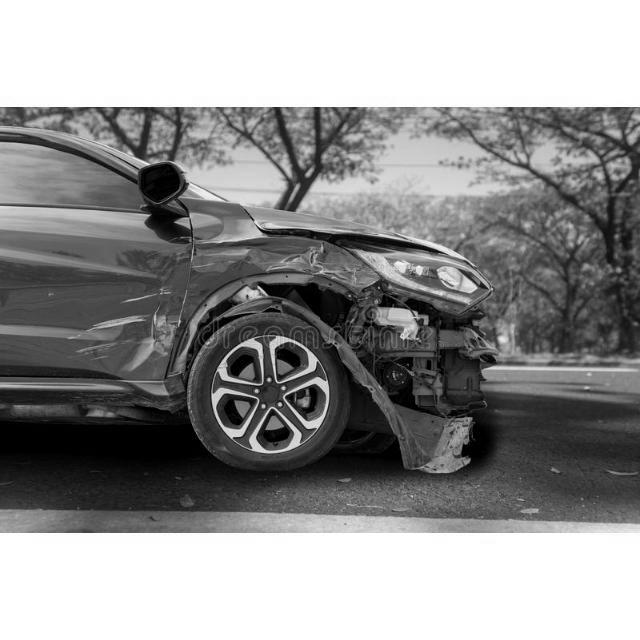doorouter-dent: (1, 205, 178, 382)
fender-dent: (189, 215, 367, 319)
front-bumper-dent: (371, 311, 514, 452)
